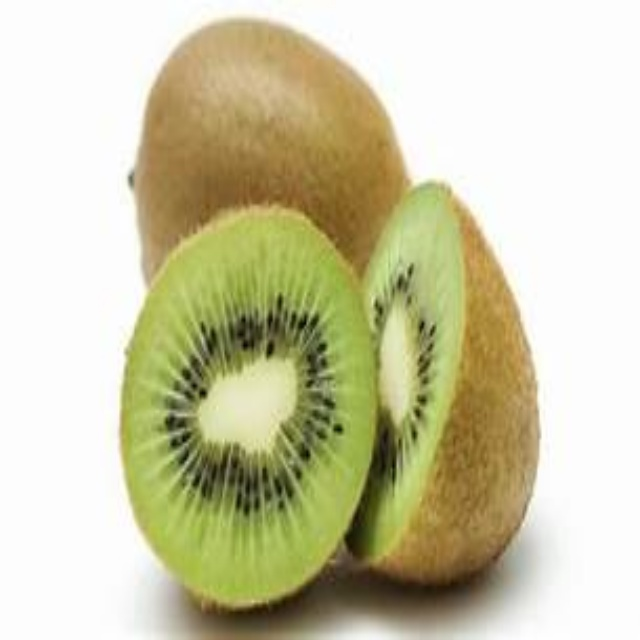kiwi: (108, 189, 544, 615), (140, 19, 403, 280)
